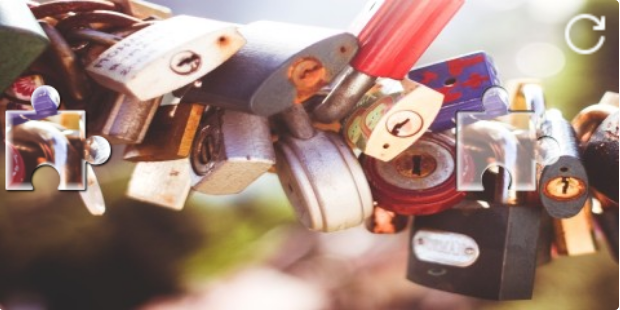target: (456, 86, 561, 191)
